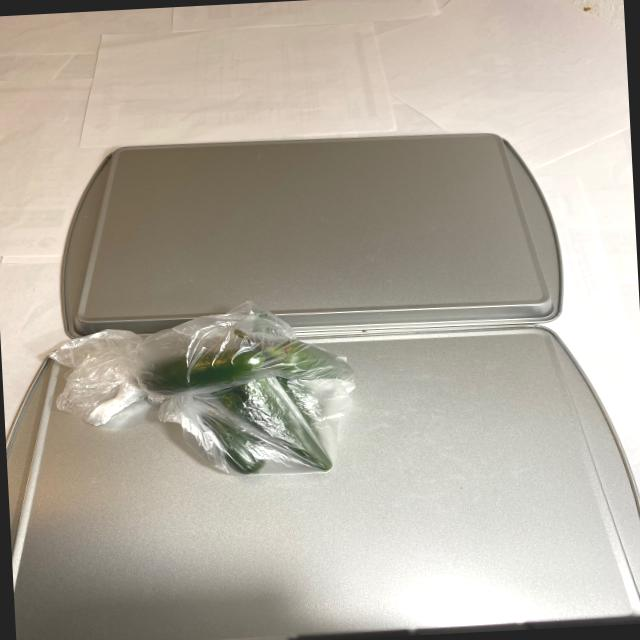chilli: (126, 310, 362, 492)
